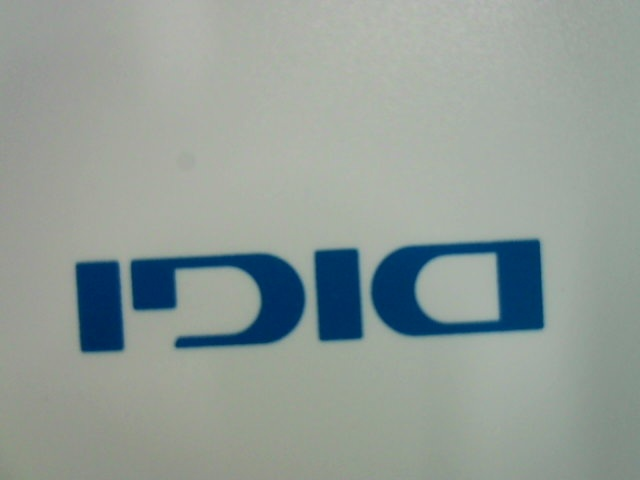BL_DIGI: (69, 232, 552, 363)
